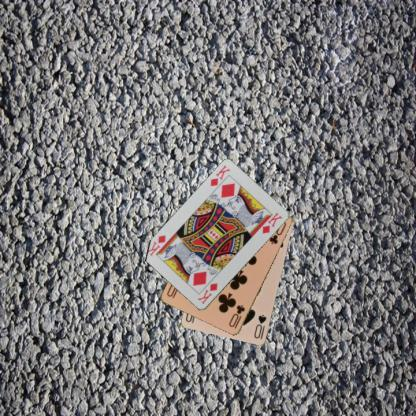10c: (227, 302, 246, 330)
10s: (251, 312, 268, 341)
Kd: (195, 280, 219, 305), (208, 162, 231, 188)
